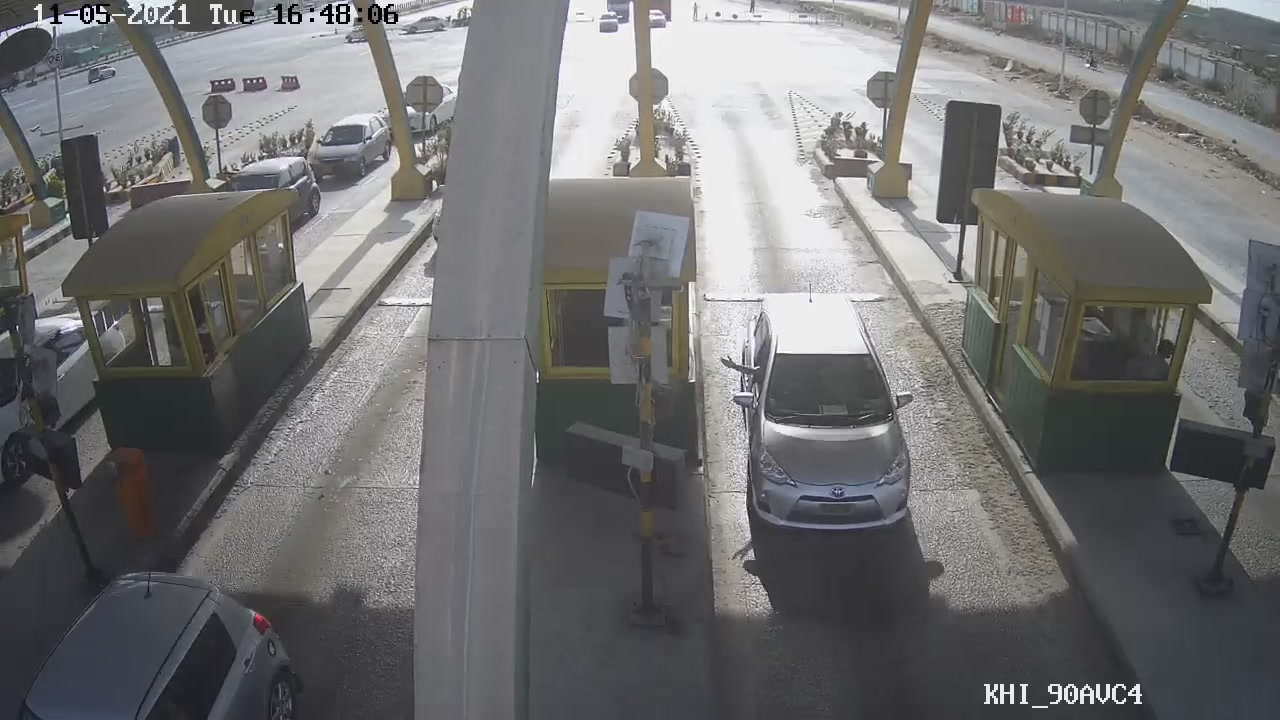F1: (733, 285, 919, 542)
